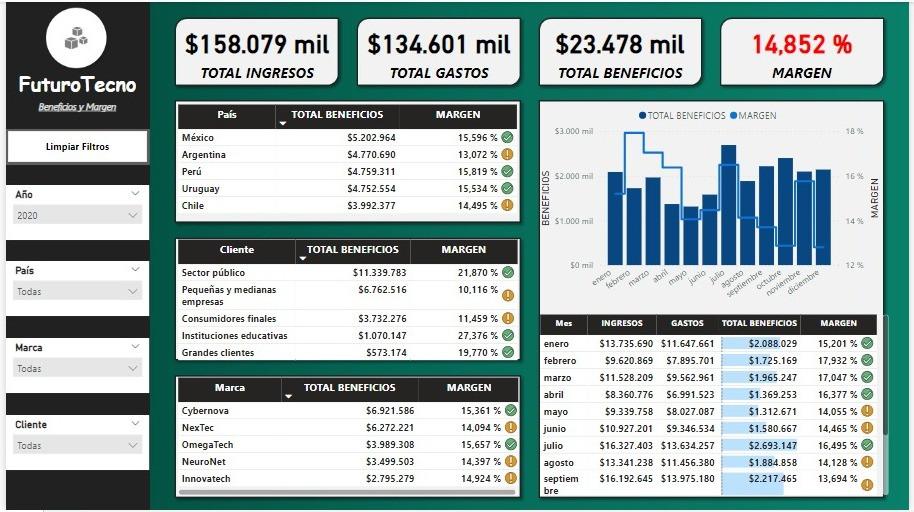

The page's visual inventory and layout, read from the dashboard file:
{"tool":"powerbi","page":{"name":"Página 1","canvas":[1280,720],"ordinal":0},"visuals":[{"type":"card","fields":{"Values":["Registros_2020-2022.TOTAL INGRESOS"]},"box":[240.9,22.7,229.6,95],"z":0},{"type":"card","fields":{"Values":["Registros_2020-2022.TOTAL GASTOS"]},"box":[498.9,22.7,229.6,95],"z":1000},{"type":"card","fields":{"Values":["Registros_2020-2022.TOTAL BENEFICIOS"]},"box":[755.4,22.7,229.6,95],"z":2000},{"type":"card","fields":{"Values":["Registros_2020-2022.MARGEN"]},"box":[1013.4,22.7,229,95],"z":3000},{"type":"tableEx","fields":{"Values":["Registros_2020-2022.Fecha.Variación.Jerarquía de fechas.Mes","Registros_2020-2022.TOTAL INGRESOS","Registros_2020-2022.TOTAL GASTOS","Registros_2020-2022.TOTAL BENEFICIOS","Registros_2020-2022.MARGEN"]},"box":[751.2,438,504.6,266.5],"z":4000},{"type":"lineStackedColumnComboChart","title":"BENEFICIOS Y MARGEN POR MES","fields":{"Category":["Registros_2020-2022.Fecha.Variación.Jerarquía de fechas.Mes"],"Y":["Registros_2020-2022.TOTAL BENEFICIOS"],"Y2":["Registros_2020-2022.MARGEN"]},"box":[751.2,140.3,491.8,301.9],"z":5000},{"type":"slicer","fields":{"Values":["Registros_2020-2022.Fecha.Variación.Jerarquía de fechas.Año"]},"box":[0,258.8,202.7,78],"z":6000},{"type":"slicer","fields":{"Values":["Registros_2020-2022.País"]},"box":[0,367.7,202.7,78],"z":7000},{"type":"slicer","fields":{"Values":["Registros_2020-2022.Marca"]},"box":[0,476.5,202.7,78],"z":8000},{"type":"slicer","fields":{"Values":["Registros_2020-2022.Cliente"]},"box":[0,585.4,202.7,78],"z":9000},{"type":"tableEx","fields":{"Values":["Registros_2020-2022.País","Registros_2020-2022.TOTAL BENEFICIOS","Registros_2020-2022.MARGEN"]},"box":[238.1,140.3,493.2,177.2],"z":10000},{"type":"tableEx","fields":{"Values":["Registros_2020-2022.Cliente","Registros_2020-2022.TOTAL BENEFICIOS","Registros_2020-2022.MARGEN"]},"box":[238.1,331.7,493.2,182.8],"z":11000},{"type":"tableEx","fields":{"Values":["Registros_2020-2022.Marca","Registros_2020-2022.TOTAL BENEFICIOS","Registros_2020-2022.MARGEN"]},"box":[238.1,527.2,493.2,177.2],"z":12000},{"type":"image","box":[49.6,0,104.9,107.7],"z":13000},{"type":"textbox","title":"FuturoTecno","box":[0,95,202.7,89.3],"z":14000},{"type":"actionButton","box":[0,180,202.7,49.6],"z":15000}]}

Visuals, with their boxes in screenshot pixels (x1, y1, x2, y2), scaled from the page's 1280x720 canvas onto the 914x512 screenshot:
card - Registros_2020-2022.TOTAL INGRESOS: crop(172, 16, 336, 84)
card - Registros_2020-2022.TOTAL GASTOS: crop(356, 16, 520, 84)
card - Registros_2020-2022.TOTAL BENEFICIOS: crop(539, 16, 703, 84)
card - Registros_2020-2022.MARGEN: crop(724, 16, 887, 84)
tableEx - Registros_2020-2022.Fecha.Variación.Jerarquía de fechas.Mes x Registros_2020-2022.TOTAL INGRESOS: crop(536, 311, 897, 501)
"BENEFICIOS Y MARGEN POR MES" lineStackedColumnComboChart: crop(536, 100, 888, 314)
slicer - Registros_2020-2022.Fecha.Variación.Jerarquía de fechas.Año: crop(0, 184, 145, 240)
slicer - Registros_2020-2022.País: crop(0, 261, 145, 317)
slicer - Registros_2020-2022.Marca: crop(0, 339, 145, 394)
slicer - Registros_2020-2022.Cliente: crop(0, 416, 145, 472)
tableEx - Registros_2020-2022.País x Registros_2020-2022.TOTAL BENEFICIOS: crop(170, 100, 522, 226)
tableEx - Registros_2020-2022.Cliente x Registros_2020-2022.TOTAL BENEFICIOS: crop(170, 236, 522, 366)
tableEx - Registros_2020-2022.Marca x Registros_2020-2022.TOTAL BENEFICIOS: crop(170, 375, 522, 501)
image: crop(35, 0, 110, 77)
"FuturoTecno" textbox: crop(0, 68, 145, 131)
actionButton: crop(0, 128, 145, 163)
